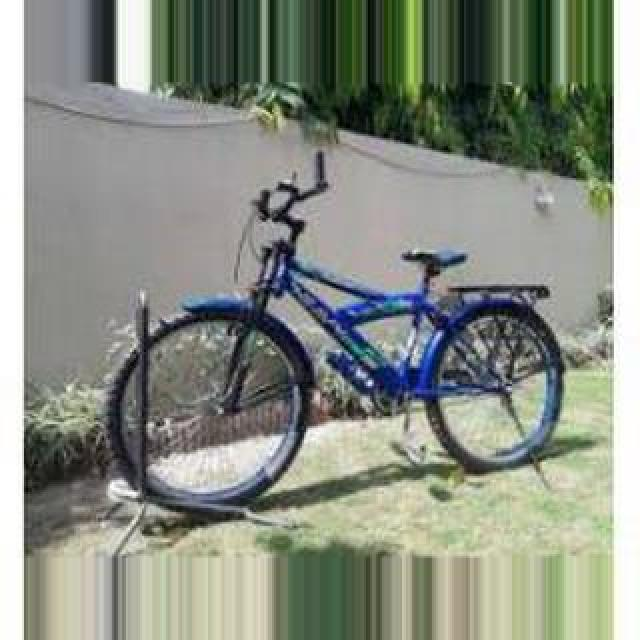Person: (102, 150, 568, 520)
